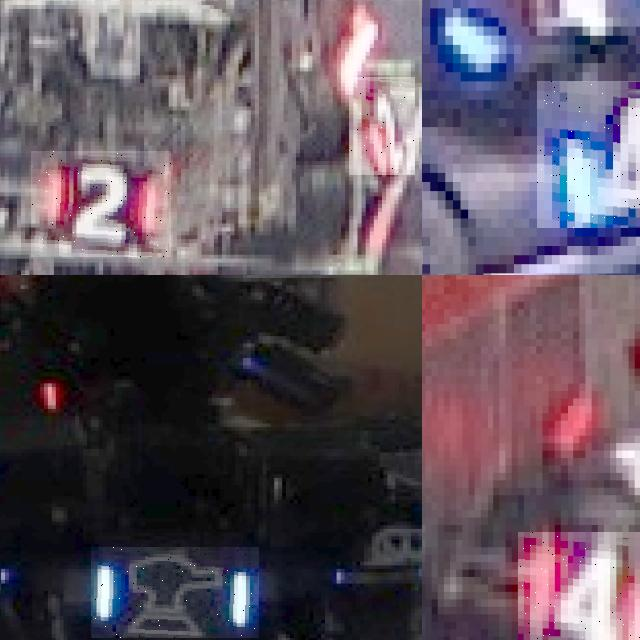B4: (537, 81, 640, 227)
Bs: (91, 547, 259, 638)
R2: (31, 151, 171, 257), (349, 77, 415, 175)
R4: (517, 532, 640, 640)
